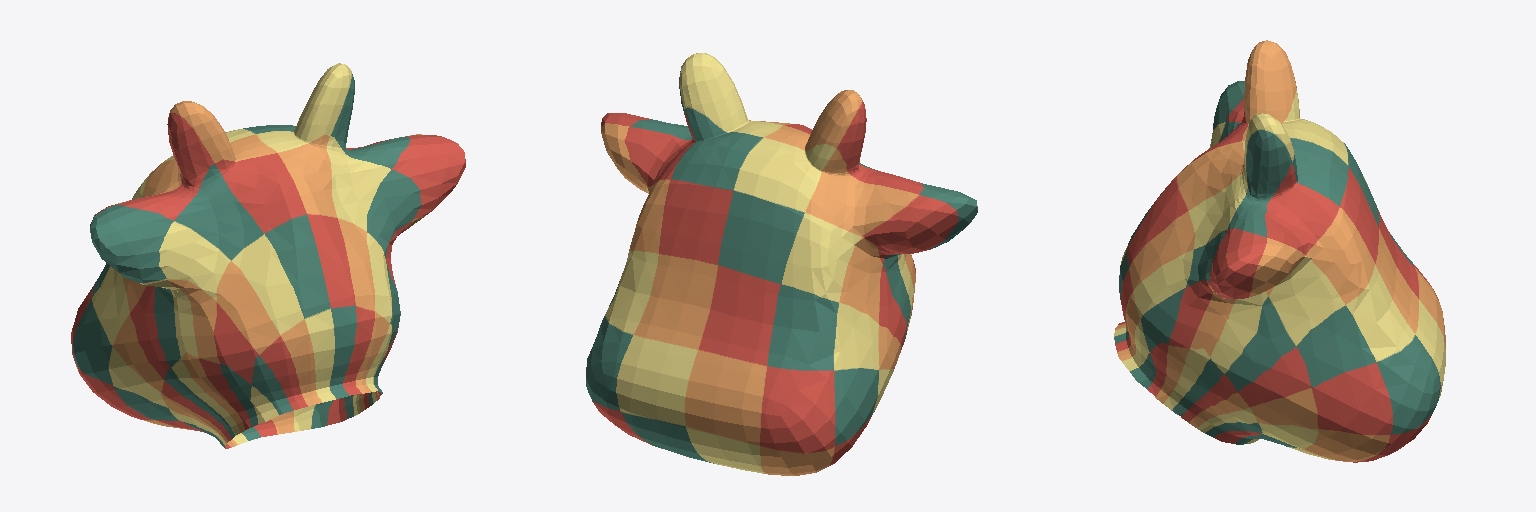
The picture shows the model from 3 angles: view 1: azimuth 30°, elevation 25°; view 2: azimuth 150°, elevation 25°; view 3: azimuth 270°, elevation 25°; orthographic projection.
Size of the model in its own units: 1.1 by 1.01 by 0.8523.
1 materials, 1 textured.